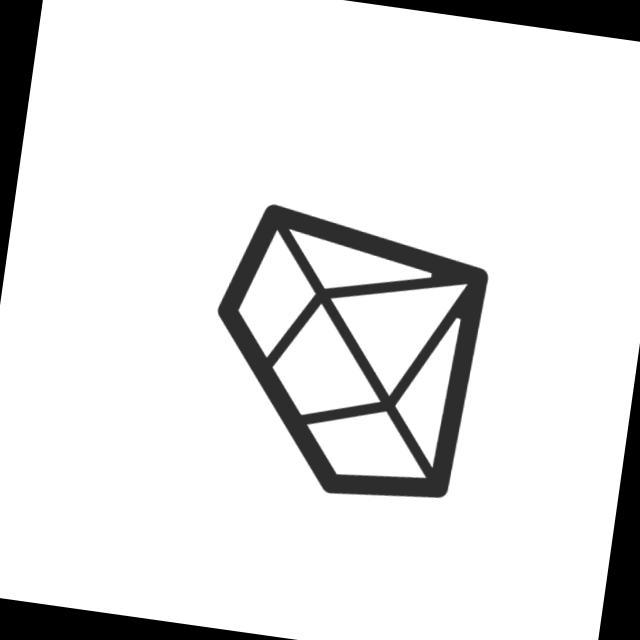diamond: (186, 191, 503, 520)
